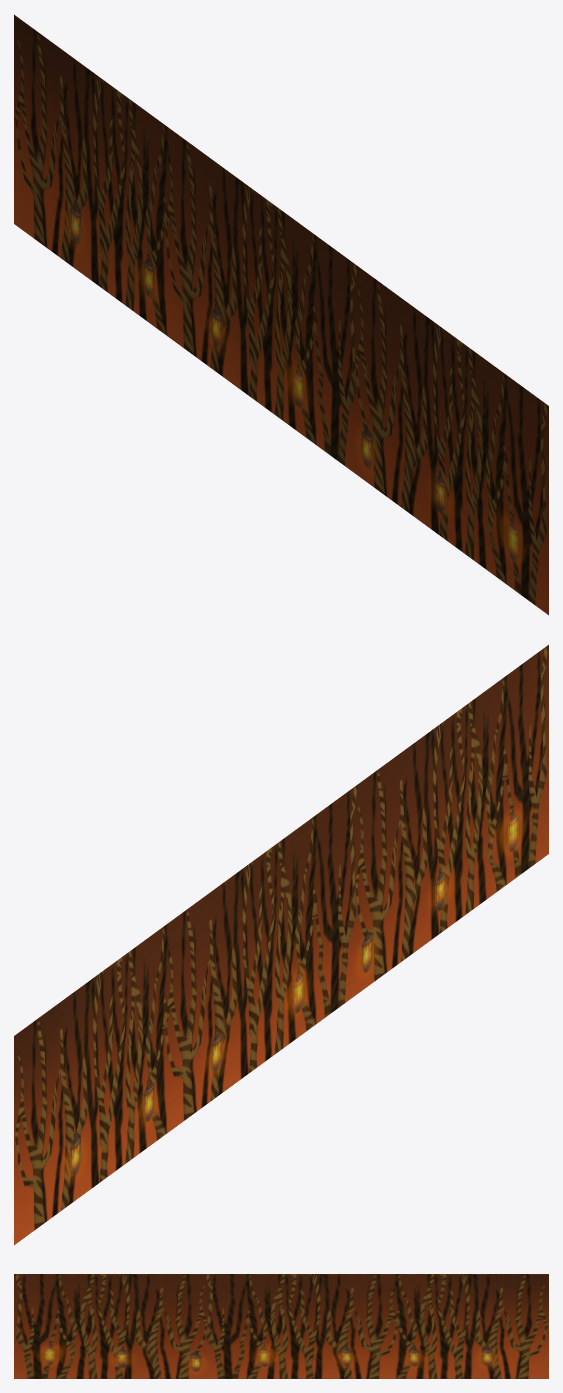
3 views of the same model, one above another, from view 1: azimuth 30°, elevation 25°; view 2: azimuth 150°, elevation 25°; view 3: azimuth 270°, elevation 25° (orthographic). The views are drawn at different scales.
Visible parts, largest first — view 1: ST3_BG1; view 2: ST3_BG1; view 3: ST3_BG1.
Boxes of the visible parts, x1,y1,x2,y2 form: ST3_BG1: [14, 14, 548, 615]; ST3_BG1: [14, 644, 548, 1245]; ST3_BG1: [14, 1274, 548, 1378].
Size of the model in its own units: 5.31e-13 by 6488 by 30036.
